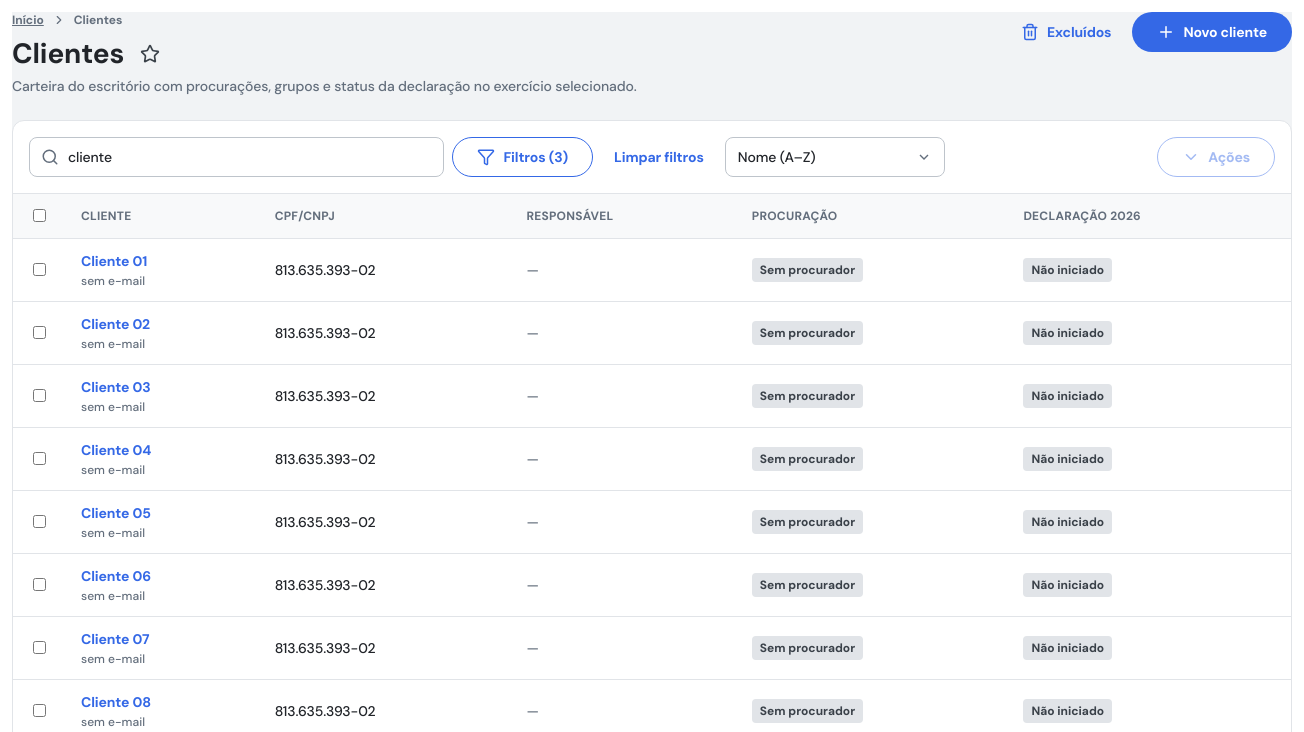
Test: lista de clientes: erro, seleção de todos e endereço › marcar a página oferece "Selecionar todos os N resultados"; a exportação vai pelos filtros, sem ids
Click the checkbox named "Selecionar todos da página". click: coordinates (40, 216)
box: [33,209,46,222]
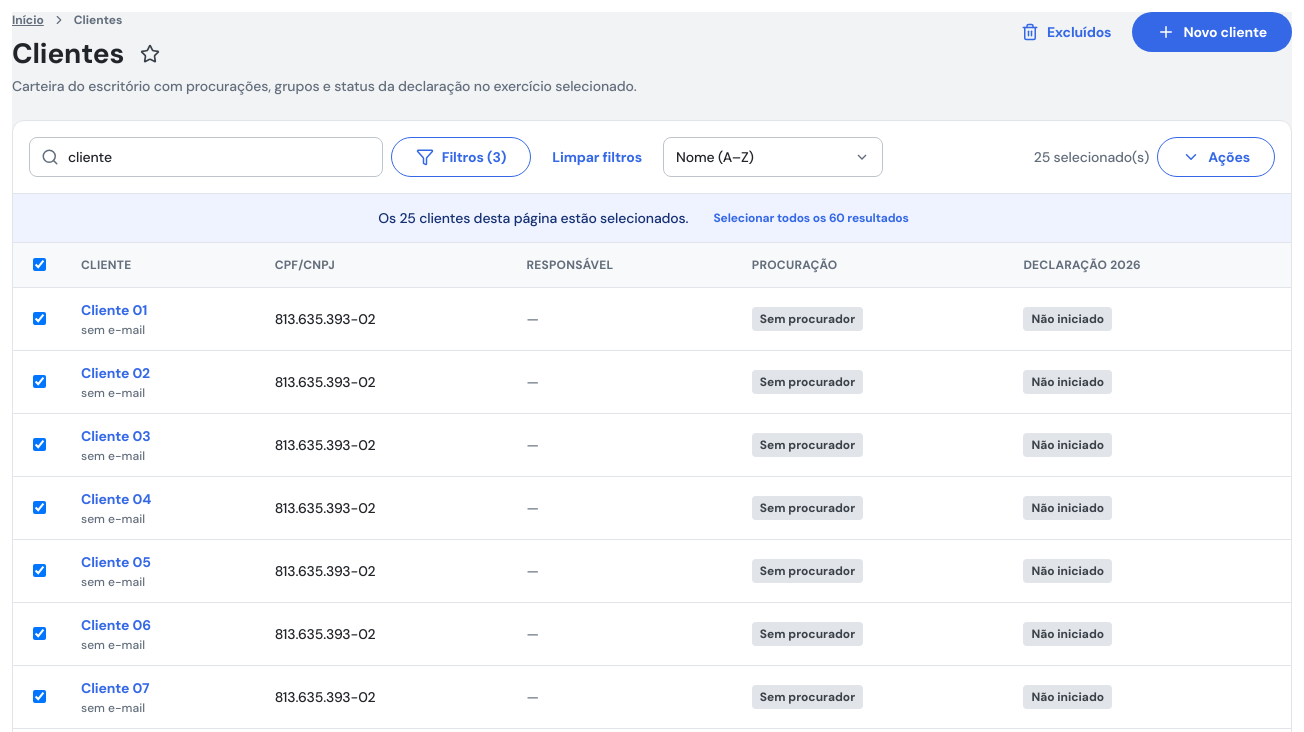
Expected: the text "25 selecionado(s)" is shown, [1034,147,1149,167]
Expected: the text "Os 25 clientes desta página estão selecionados." is shown, [378,208,688,228]
Click the button "Selecionar todos os 60 resultados". click: coordinates (811, 218)
box: [696,202,926,234]
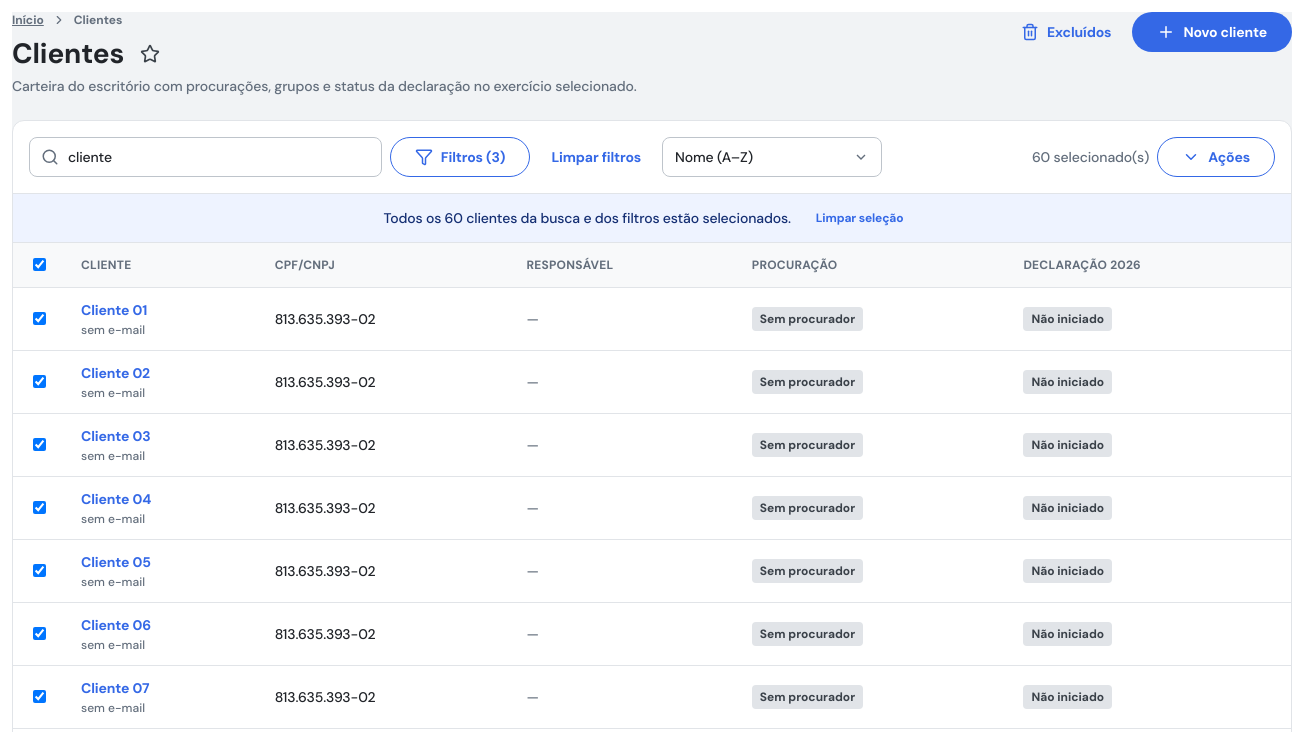
Click the button "Ações". click: coordinates (1216, 157)
box: [1157,137,1275,177]
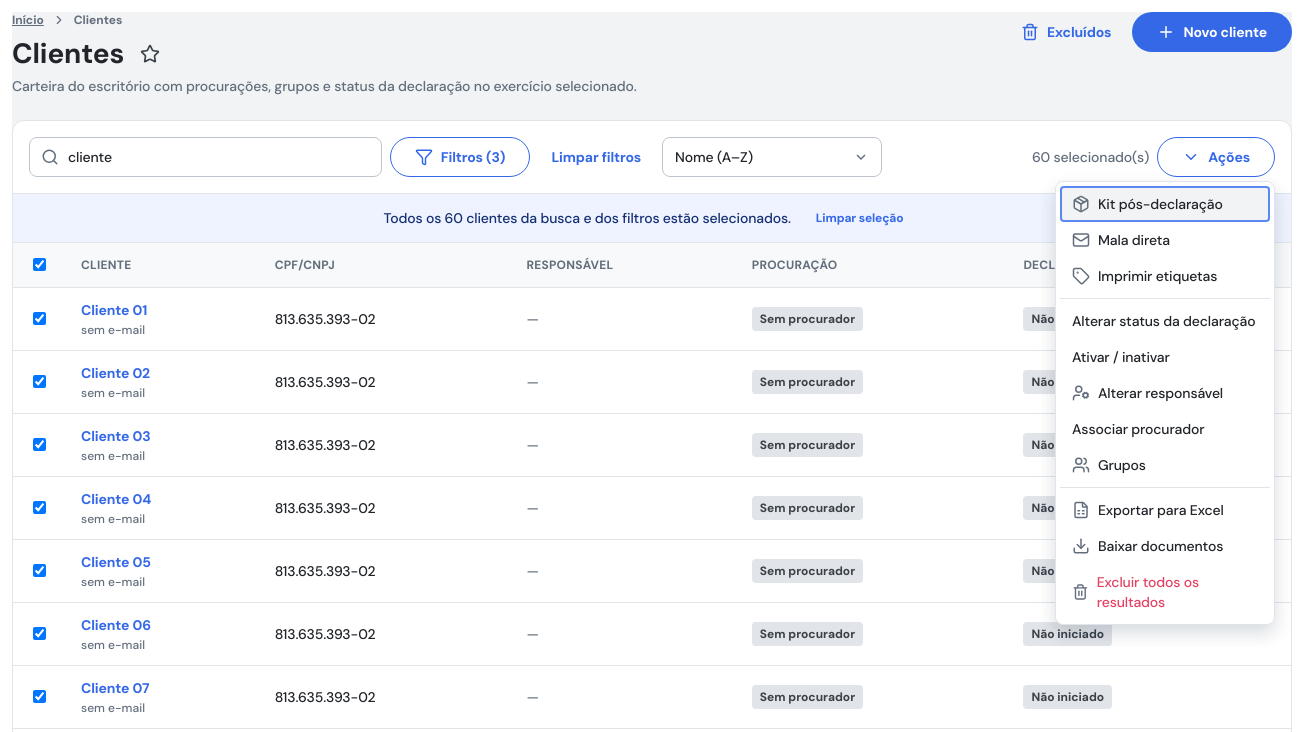
Click the menu item "Exportar para Excel". click: coordinates (1165, 510)
box: [1060,492,1270,528]
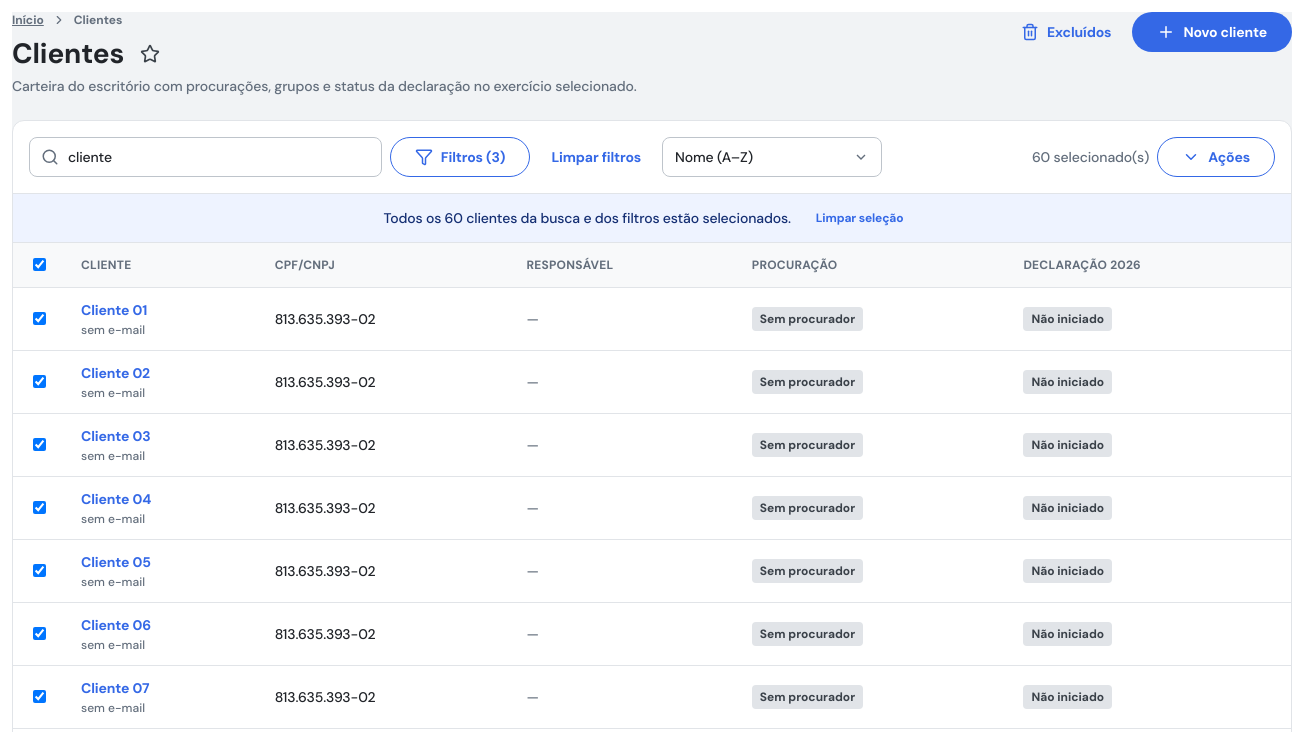
Click the button "Limpar seleção". click: coordinates (860, 218)
box: [799,202,920,234]
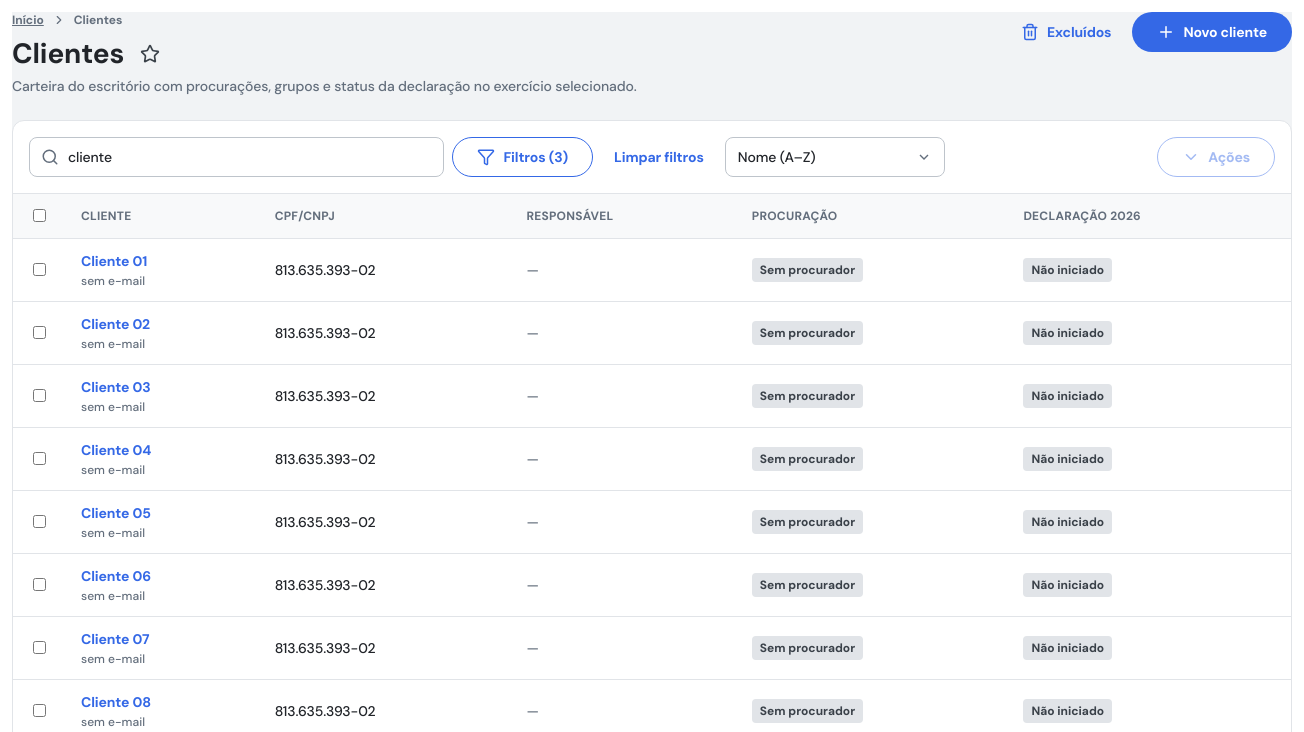
Expected: the text "selecionado(s)" is gone
Expected: the button "Ações" is disabled, [1157,137,1275,177]
